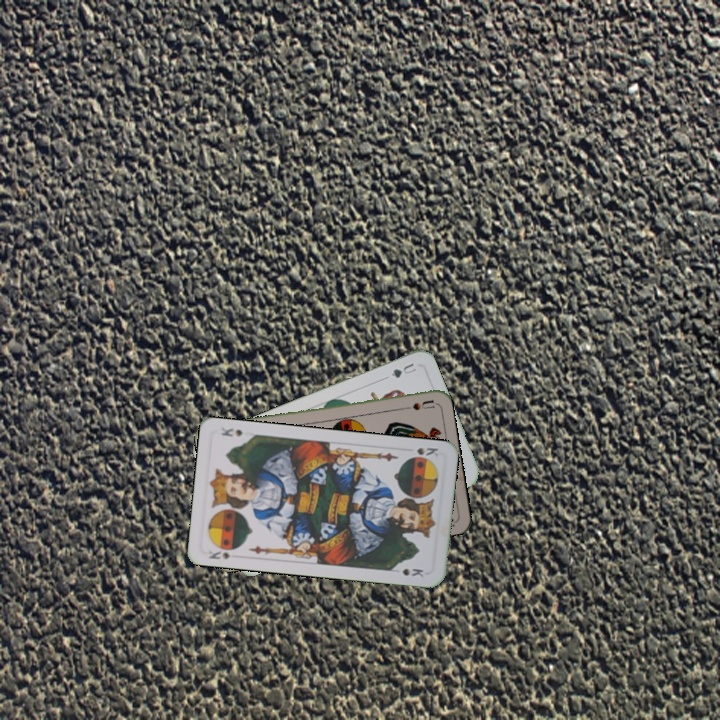GU: (387, 359, 419, 381)
SK: (404, 443, 442, 462), (205, 542, 240, 562)
SU: (395, 396, 436, 413)
